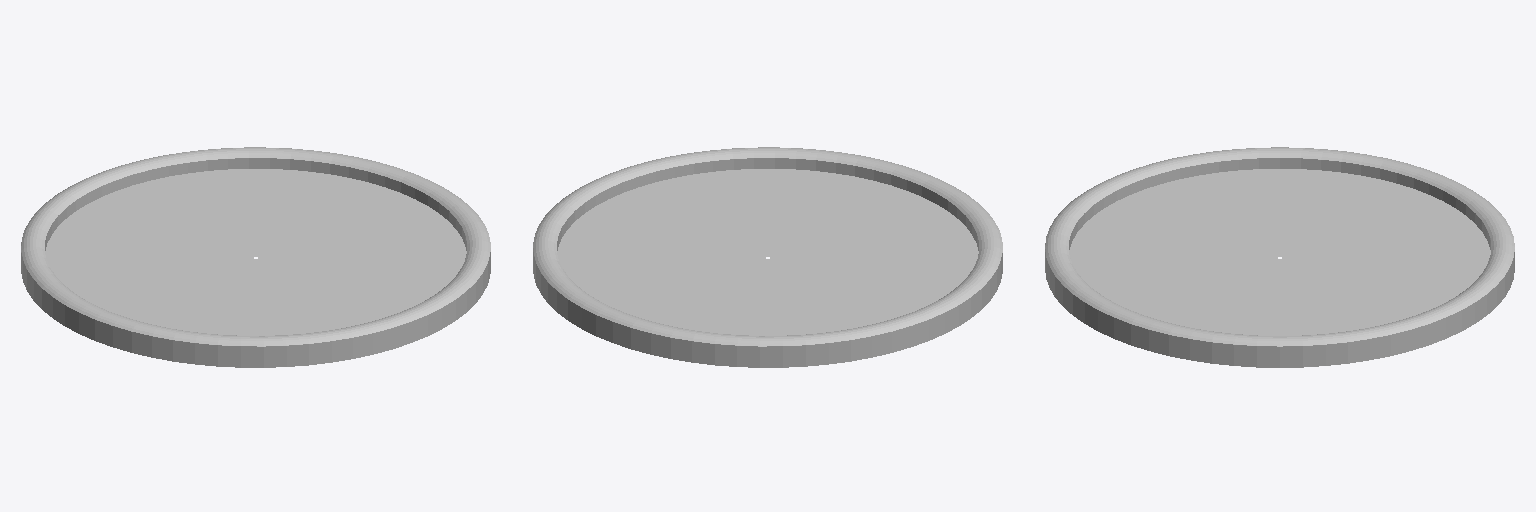
Rendered from Gauge.obj.
3 views of the same model, side by side, from view 1: azimuth 30°, elevation 25°; view 2: azimuth 150°, elevation 25°; view 3: azimuth 270°, elevation 25° (orthographic).
Parts seen in each view (by area): view 1: Cylinder; view 2: Cylinder; view 3: Cylinder.
Part boxes in pixels (bbox=[...]): Cylinder: bbox=[21, 147, 490, 367]; Cylinder: bbox=[533, 147, 1002, 367]; Cylinder: bbox=[1045, 147, 1514, 367].
Size of the model in its own units: 1.99 by 0.1184 by 1.99.